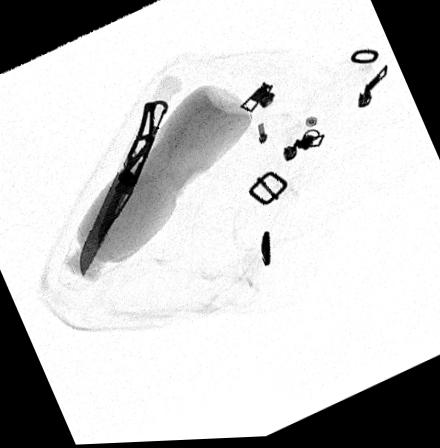Knife: (79, 100, 170, 277)
